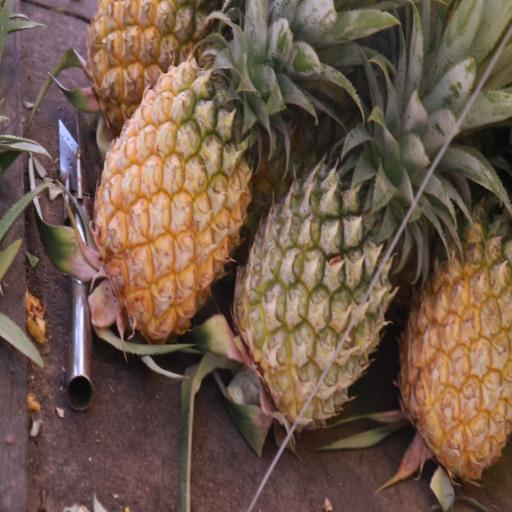Pineapple - v8 v1: (88, 8, 256, 348), (392, 91, 512, 480)
